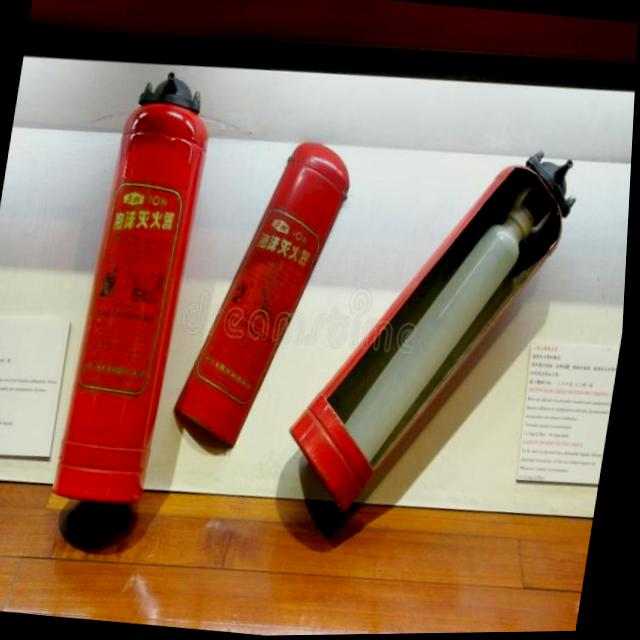FireExtinguisher: (278, 111, 594, 539), (44, 60, 219, 518), (170, 126, 361, 467)
